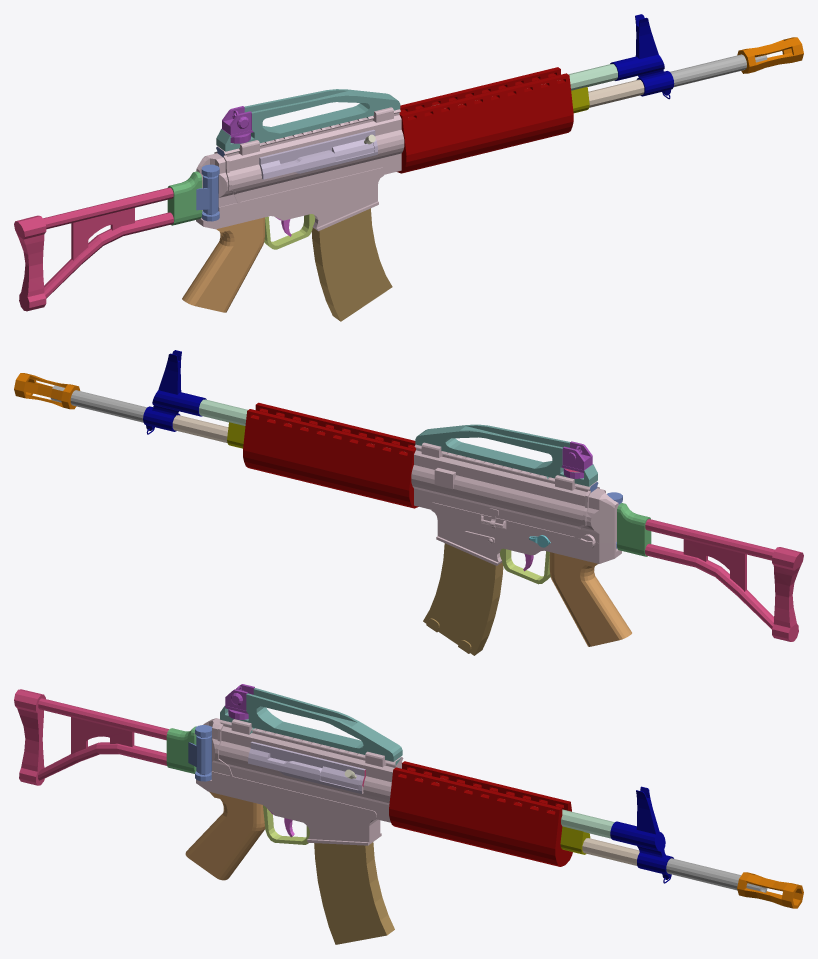
The model's file is full_25.glb.
3 renders of one model, top to bottom at view 1: azimuth 30°, elevation 25°; view 2: azimuth 150°, elevation 25°; view 3: azimuth 330°, elevation 25°, orthographic.
Visible parts, largest first — view 1: world; view 2: world; view 3: world.
Part boxes in pixels (<box>): world: <box>14,14,803,321</box>; world: <box>14,350,803,655</box>; world: <box>14,684,803,944</box>.
Size of the model in its own units: 0.9606 by 0.2731 by 0.0519.
